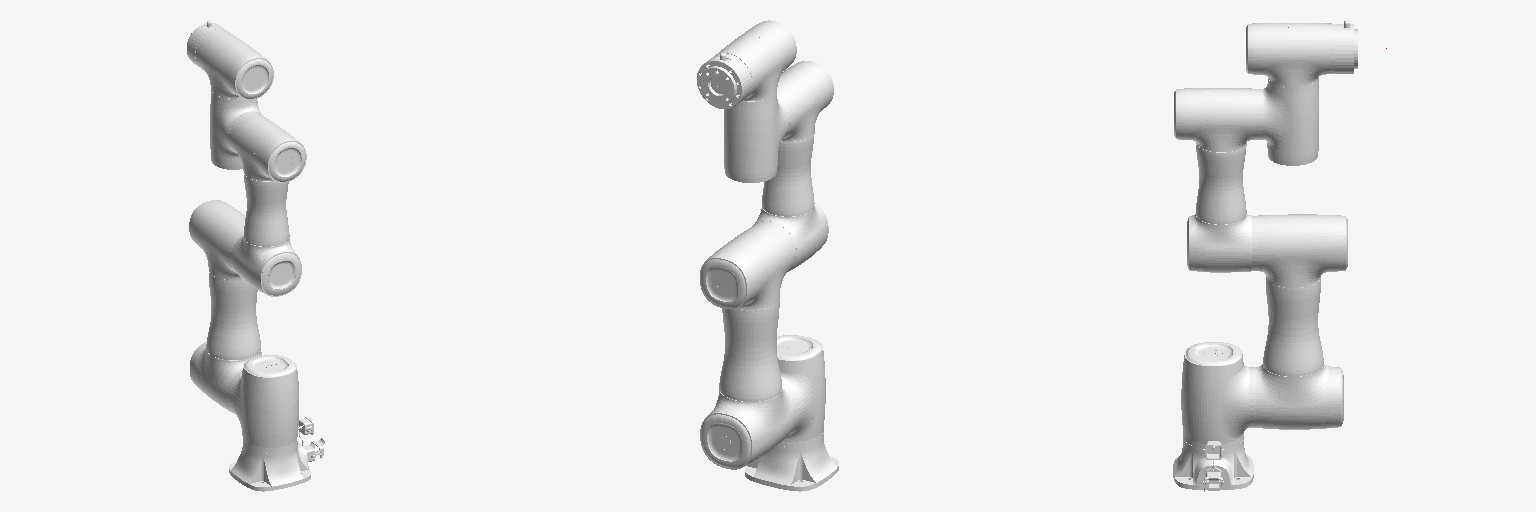
The robot description file, URDF, robot "cr3_robot":
<?xml version="1.0" ?>
<robot name="cr3_robot">
	<link name="world">
		<inertial>
			<origin rpy="0.00000 -0.00000 0.00000" xyz="0.00000 0.00000 0.00000"/>
			<mass value="0.00000"/>
			<inertia ixx="0.00000" ixy="0" ixz="0" iyy="0.00000" iyz="0" izz="0.00000"/>
		</inertial>
	</link>
	<link name="base_link">
		<inertial>
			<origin rpy="0.00000 -0.00000 0.00000" xyz="-0.00272 0.00000 0.02204"/>
			<mass value="0.65300"/>
			<inertia ixx="0.00150" ixy="0" ixz="0" iyy="0.00228" iyz="0" izz="0.00280"/>
		</inertial>
		<visual>
			<origin rpy="0.00000 -0.00000 0.00000" xyz="0.00000 0.00000 0.00000"/>
			<geometry>
				<mesh filename="../robot_arm_assets/cr3/meshes/base_link.STL" scale="1.00000 1.00000 1.00000"/>
			</geometry>
			<material name="mat_0">
				<color rgba="1.00000 1.00000 1.00000 1.00000" />
			</material>
		</visual>
		<collision>
			<origin rpy="0.00000 -0.00000 0.00000" xyz="0.00000 0.00000 0.00000"/>
			<geometry>
				<mesh filename="../robot_arm_assets/cr3/meshes/base_link.STL" scale="1.00000 1.00000 1.00000"/>
			</geometry>
		</collision>
	</link>
	<link name="Link1">
		<inertial>
			<origin rpy="0.00000 -0.00000 0.00000" xyz="-0.00004 -0.00395 0.00364"/>
			<mass value="1.31101"/>
			<inertia ixx="0.00417" ixy="0" ixz="0" iyy="0.00400" iyz="0" izz="0.00282"/>
		</inertial>
		<visual>
			<origin rpy="0.00000 -0.00000 0.00000" xyz="0.00000 0.00000 0.00000"/>
			<geometry>
				<mesh filename="../robot_arm_assets/cr3/meshes/Link1.STL" scale="1.00000 1.00000 1.00000"/>
			</geometry>
			<material name="mat_1">
				<color rgba="1.00000 1.00000 1.00000 1.00000" />
			</material>
		</visual>
		<collision>
			<origin rpy="0.00000 -0.00000 0.00000" xyz="0.00000 0.00000 0.00000"/>
			<geometry>
				<mesh filename="../robot_arm_assets/cr3/meshes/Link1.STL" scale="1.00000 1.00000 1.00000"/>
			</geometry>
		</collision>
	</link>
	<link name="Link2">
		<inertial>
			<origin rpy="0.00000 -0.00000 0.00000" xyz="-0.12924 0.00001 0.13317"/>
			<mass value="3.40044"/>
			<inertia ixx="0.01108" ixy="0" ixz="0" iyy="0.04822" iyz="0" izz="0.04400"/>
		</inertial>
		<visual>
			<origin rpy="0.00000 -0.00000 0.00000" xyz="0.00000 0.00000 0.00000"/>
			<geometry>
				<mesh filename="../robot_arm_assets/cr3/meshes/Link2.STL" scale="1.00000 1.00000 1.00000"/>
			</geometry>
			<material name="mat_2">
				<color rgba="1.00000 1.00000 1.00000 1.00000" />
			</material>
		</visual>
		<collision>
			<origin rpy="0.00000 -0.00000 0.00000" xyz="0.00000 0.00000 0.00000"/>
			<geometry>
				<mesh filename="../robot_arm_assets/cr3/meshes/Link2.STL" scale="1.00000 1.00000 1.00000"/>
			</geometry>
		</collision>
	</link>
	<link name="Link3">
		<inertial>
			<origin rpy="0.00000 -0.00000 0.00000" xyz="-0.11982 0.00000 0.00999"/>
			<mass value="2.21449"/>
			<inertia ixx="0.00597" ixy="0" ixz="0" iyy="0.02366" iyz="0" izz="0.02138"/>
		</inertial>
		<visual>
			<origin rpy="0.00000 -0.00000 0.00000" xyz="0.00000 0.00000 0.00000"/>
			<geometry>
				<mesh filename="../robot_arm_assets/cr3/meshes/Link3.STL" scale="1.00000 1.00000 1.00000"/>
			</geometry>
			<material name="mat_3">
				<color rgba="1.00000 1.00000 1.00000 1.00000" />
			</material>
		</visual>
		<collision>
			<origin rpy="0.00000 -0.00000 0.00000" xyz="0.00000 0.00000 0.00000"/>
			<geometry>
				<mesh filename="../robot_arm_assets/cr3/meshes/Link3.STL" scale="1.00000 1.00000 1.00000"/>
			</geometry>
		</collision>
	</link>
	<link name="Link4">
		<inertial>
			<origin rpy="0.00000 -0.00000 0.00000" xyz="0.00000 0.00345 -0.00287"/>
			<mass value="0.84227"/>
			<inertia ixx="0.00223" ixy="0" ixz="0" iyy="0.00124" iyz="0" izz="0.00215"/>
		</inertial>
		<visual>
			<origin rpy="0.00000 -0.00000 0.00000" xyz="0.00000 0.00000 0.00000"/>
			<geometry>
				<mesh filename="../robot_arm_assets/cr3/meshes/Link4.STL" scale="1.00000 1.00000 1.00000"/>
			</geometry>
			<material name="mat_4">
				<color rgba="1.00000 1.00000 1.00000 1.00000" />
			</material>
		</visual>
		<collision>
			<origin rpy="0.00000 -0.00000 0.00000" xyz="0.00000 0.00000 0.00000"/>
			<geometry>
				<mesh filename="../robot_arm_assets/cr3/meshes/Link4.STL" scale="1.00000 1.00000 1.00000"/>
			</geometry>
		</collision>
	</link>
	<link name="Link5">
		<inertial>
			<origin rpy="0.00000 -0.00000 0.00000" xyz="-0.00000 -0.00333 -0.00287"/>
			<mass value="0.84369"/>
			<inertia ixx="0.00224" ixy="0" ixz="0" iyy="0.00125" iyz="0" izz="0.00216"/>
		</inertial>
		<visual>
			<origin rpy="0.00000 -0.00000 0.00000" xyz="0.00000 0.00000 0.00000"/>
			<geometry>
				<mesh filename="../robot_arm_assets/cr3/meshes/Link5.STL" scale="1.00000 1.00000 1.00000"/>
			</geometry>
			<material name="mat_5">
				<color rgba="1.00000 1.00000 1.00000 1.00000" />
			</material>
		</visual>
		<collision>
			<origin rpy="0.00000 -0.00000 0.00000" xyz="0.00000 0.00000 0.00000"/>
			<geometry>
				<mesh filename="../robot_arm_assets/cr3/meshes/Link5.STL" scale="1.00000 1.00000 1.00000"/>
			</geometry>
		</collision>
	</link>
	<link name="Link6">
		<inertial>
			<origin rpy="0.00000 -0.00000 0.00000" xyz="-0.00000 0.00027 -0.02014"/>
			<mass value="0.15941"/>
			<inertia ixx="0.00015" ixy="0" ixz="0" iyy="0.00013" iyz="0" izz="0.00023"/>
		</inertial>
		<visual>
			<origin rpy="0.00000 -0.00000 0.00000" xyz="0.00000 0.00000 0.00000"/>
			<geometry>
				<mesh filename="../robot_arm_assets/cr3/meshes/Link6.STL" scale="1.00000 1.00000 1.00000"/>
			</geometry>
			<material name="mat_6">
				<color rgba="1.00000 1.00000 1.00000 1.00000" />
			</material>
		</visual>
		<collision>
			<origin rpy="0.00000 -0.00000 0.00000" xyz="0.00000 0.00000 0.00000"/>
			<geometry>
				<mesh filename="../robot_arm_assets/cr3/meshes/Link6.STL" scale="1.00000 1.00000 1.00000"/>
			</geometry>
		</collision>
	</link>
	<link name="ee_link">
		<inertial>
			<origin rpy="-3.14000 -0.00000 1.57000" xyz="0.00000 0.00000 0.00000"/>
			<mass value="0.00000"/>
			<inertia ixx="0.00000" ixy="0" ixz="0" iyy="0.00000" iyz="0" izz="0.00000"/>
		</inertial>
		<visual>
			<origin rpy="0.00000 -0.00000 0.00000" xyz="0.00000 0.00000 0.00000"/>
			<geometry>
				<sphere radius="0.00100"/>
			</geometry>
			<material name="mat_7">
				<color rgba="1.00000 1.00000 1.00000 1.00000" />
			</material>
		</visual>
		<collision>
			<origin rpy="0.00000 -0.00000 0.00000" xyz="0.00000 0.00000 0.00000"/>
			<geometry>
				<sphere radius="0.00100"/>
			</geometry>
		</collision>
	</link>
	<link name="digitac_body_link">
		<inertial>
			<origin rpy="0.00000 -0.00000 0.00000" xyz="0.00445 -0.01376 -0.00000"/>
			<mass value="0.00792"/>
			<inertia ixx="0.00000" ixy="0" ixz="0" iyy="0.00000" iyz="0" izz="0.00000"/>
		</inertial>
		<visual>
			<origin rpy="0.00000 -0.00000 0.00000" xyz="0.00000 0.00000 0.03500"/>
			<geometry>
				<mesh filename="../sensor_assets/standard_digitac/body/digitac_body.stl" scale="1.00000 1.00000 1.00000"/>
			</geometry>
			<material name="mat_8">
				<color rgba="0.80000 0.80000 0.80000 1.00000" />
			</material>
		</visual>
		<collision>
			<origin rpy="0.00000 -0.00000 0.00000" xyz="0.00000 0.00000 0.03500"/>
			<geometry>
				<mesh filename="../sensor_assets/standard_digitac/body/digitac_body.stl" scale="1.00000 1.00000 1.00000"/>
			</geometry>
		</collision>
	</link>
	<link name="digitac_tip_link">
		<inertial>
			<origin rpy="0.00000 -0.00000 0.00000" xyz="0.00002 -0.00418 -0.00513"/>
			<mass value="0.00021"/>
			<inertia ixx="0.00000" ixy="0" ixz="0" iyy="0.00000" iyz="0" izz="0.00000"/>
		</inertial>
		<visual>
			<origin rpy="0.00000 -0.00000 0.00000" xyz="0.00000 0.00000 -0.03500"/>
			<geometry>
				<mesh filename="../sensor_assets/standard_digitac/tip/digitac_skin.stl" scale="1.00000 1.00000 1.00000"/>
			</geometry>
			<material name="mat_9">
				<color rgba="0.00000 0.00000 0.00000 1.00000" />
			</material>
		</visual>
		<collision>
			<origin rpy="0.00000 -0.00000 0.00000" xyz="0.00000 0.00000 -0.03500"/>
			<geometry>
				<mesh filename="../sensor_assets/standard_digitac/tip/digitac_skin.stl" scale="1.00000 1.00000 1.00000"/>
			</geometry>
		</collision>
	</link>
	<link name="tcp_link">
		<inertial>
			<origin rpy="0.00000 -0.00000 1.57000" xyz="0.00000 0.00000 0.00000"/>
			<mass value="0.00000"/>
			<inertia ixx="0.00000" ixy="0" ixz="0" iyy="0.00000" iyz="0" izz="0.00000"/>
		</inertial>
		<visual>
			<origin rpy="0.00000 -0.00000 0.00000" xyz="0.00000 0.00000 0.00000"/>
			<geometry>
				<sphere radius="0.00100"/>
			</geometry>
			<material name="mat_10">
				<color rgba="0.90000 0.00000 0.20000 0.50000" />
			</material>
		</visual>
	</link>
	<joint name="world_joint" type="fixed">
		<parent link="world"/>
		<child link="base_link"/>
		<dynamics damping="1.0" friction="0.0001"/>
		<origin rpy="0.00000 -0.00000 -3.14000" xyz="0.00000 0.00000 0.00000"/>
		<axis xyz="0.00000 0.00000 0.00000"/>
	</joint>
	<joint name="joint1" type="revolute">
		<parent link="base_link"/>
		<child link="Link1"/>
		<limit effort="0.00000" lower="-3.14000" upper="3.14000" velocity="0.00000"/>
		<dynamics damping="1.0" friction="0.0001"/>
		<origin rpy="0.00000 -0.00000 0.00000" xyz="0.00000 0.00000 0.12830"/>
		<axis xyz="0.00000 0.00000 1.00000"/>
	</joint>
	<joint name="joint2" type="revolute">
		<parent link="Link1"/>
		<child link="Link2"/>
		<limit effort="0.00000" lower="-3.14000" upper="3.14000" velocity="0.00000"/>
		<dynamics damping="1.0" friction="0.0001"/>
		<origin rpy="0.00000 1.57080 4.71239" xyz="0.00000 0.00000 0.00000"/>
		<axis xyz="0.00000 0.00000 1.00000"/>
	</joint>
	<joint name="joint3" type="revolute">
		<parent link="Link2"/>
		<child link="Link3"/>
		<limit effort="0.00000" lower="-2.86000" upper="2.86000" velocity="0.00000"/>
		<dynamics damping="1.0" friction="0.0001"/>
		<origin rpy="0.00000 -0.00000 0.00000" xyz="-0.27400 0.00000 0.00000"/>
		<axis xyz="0.00000 0.00000 1.00000"/>
	</joint>
	<joint name="joint4" type="revolute">
		<parent link="Link3"/>
		<child link="Link4"/>
		<limit effort="0.00000" lower="-3.14000" upper="3.14000" velocity="0.00000"/>
		<dynamics damping="1.0" friction="0.0001"/>
		<origin rpy="0.00000 0.00000 -1.57080" xyz="-0.23000 0.00000 0.12830"/>
		<axis xyz="0.00000 0.00000 1.00000"/>
	</joint>
	<joint name="joint5" type="revolute">
		<parent link="Link4"/>
		<child link="Link5"/>
		<limit effort="0.00000" lower="-3.14000" upper="3.14000" velocity="0.00000"/>
		<dynamics damping="1.0" friction="0.0001"/>
		<origin rpy="1.57080 -0.00000 0.00000" xyz="0.00000 -0.11600 0.00000"/>
		<axis xyz="0.00000 0.00000 1.00000"/>
	</joint>
	<joint name="joint6" type="revolute">
		<parent link="Link5"/>
		<child link="Link6"/>
		<limit effort="0.00000" lower="-6.28000" upper="6.28000" velocity="0.00000"/>
		<dynamics damping="1.0" friction="0.0001"/>
		<origin rpy="-1.57080 0.00000 0.00000" xyz="0.00000 0.10500 0.00000"/>
		<axis xyz="0.00000 0.00000 1.00000"/>
	</joint>
	<joint name="ee_joint" type="fixed">
		<parent link="Link6"/>
		<child link="ee_link"/>
		<dynamics damping="1.0" friction="0.0001"/>
		<origin rpy="3.14000 -0.00000 -0.00000" xyz="0.00000 0.00000 0.00000"/>
		<axis xyz="0.00000 0.00000 0.00000"/>
	</joint>
	<joint name="joint_dummy1" type="fixed">
		<parent link="ee_link"/>
		<child link="digitac_body_link"/>
		<dynamics damping="1.0" friction="0.0001"/>
		<origin rpy="-3.14159 0.00000 3.14159" xyz="0.00000 0.00000 0.00000"/>
		<axis xyz="0.00000 0.00000 1.00000"/>
	</joint>
	<joint name="tactip_tip_to_body" type="fixed">
		<parent link="digitac_body_link"/>
		<child link="digitac_tip_link"/>
		<dynamics damping="1.0" friction="0.0001"/>
		<origin rpy="3.14159 -0.00000 -1.57080" xyz="0.00000 0.00000 0.00000"/>
		<axis xyz="0.00000 0.00000 0.00000"/>
	</joint>
	<joint name="tcp_joint" type="fixed">
		<parent link="digitac_body_link"/>
		<child link="tcp_link"/>
		<dynamics damping="1.0" friction="0.0001"/>
		<origin rpy="0.00000 -0.00000 0.00000" xyz="0.00070 0.00000 0.04500"/>
		<axis xyz="0.00000 0.00000 0.00000"/>
	</joint>
</robot>

--- Render facts (derived) ---
3 views of the same robot in one strip: view 1: azimuth 30°, elevation 25°; view 2: azimuth 150°, elevation 25°; view 3: azimuth 270°, elevation 25° (orthographic).
Robot: cr3_robot — 12 links, 11 joints (6 revolute, 5 fixed); root link world; default pose: all joints at 0.
Links seen in each view (by area): view 1: Link3, Link2, Link1, Link5, base_link, Link4; view 2: Link2, Link3, Link4, Link1, Link5, base_link, Link6; view 3: Link2, Link3, Link1, Link5, Link4, base_link, Link6.
Boxes of the visible links, x1,y1,x2,y2 form: Link3: (228, 112, 306, 296); Link2: (189, 200, 261, 413); Link1: (230, 355, 298, 452); Link5: (195, 29, 273, 99); base_link: (229, 417, 325, 491); Link4: (210, 91, 261, 169); Link2: (700, 221, 799, 469); Link3: (753, 61, 833, 270); Link4: (724, 93, 789, 182); Link1: (777, 335, 825, 446); Link5: (716, 20, 796, 100); base_link: (745, 433, 838, 491); Link6: (697, 53, 751, 109); Link2: (1250, 214, 1347, 429); Link3: (1174, 88, 1262, 272); Link1: (1181, 342, 1249, 448); Link5: (1246, 23, 1334, 86); Link4: (1263, 77, 1318, 165); base_link: (1173, 438, 1253, 491); Link6: (1335, 21, 1357, 73).
Size in the robot's own frame: 0.1753 by 0.3443 by 0.8041 metres.
Meshes: 9 distinct files referenced, 7 mesh visuals loaded (7 binary STL); not drawn: 2 (reference not matched to a file when rendering).